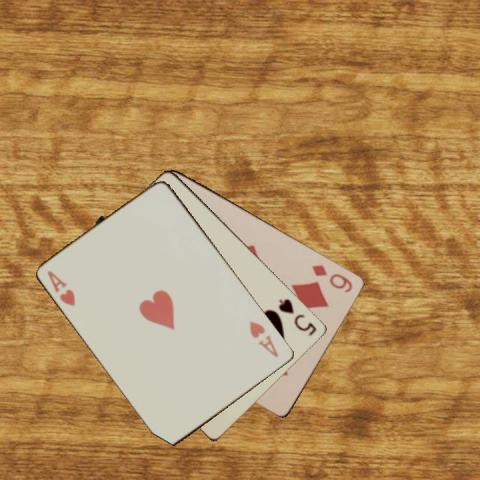5s: (276, 296, 319, 338)
6d: (309, 261, 355, 294)
Ah: (246, 318, 280, 359), (45, 268, 77, 308)
